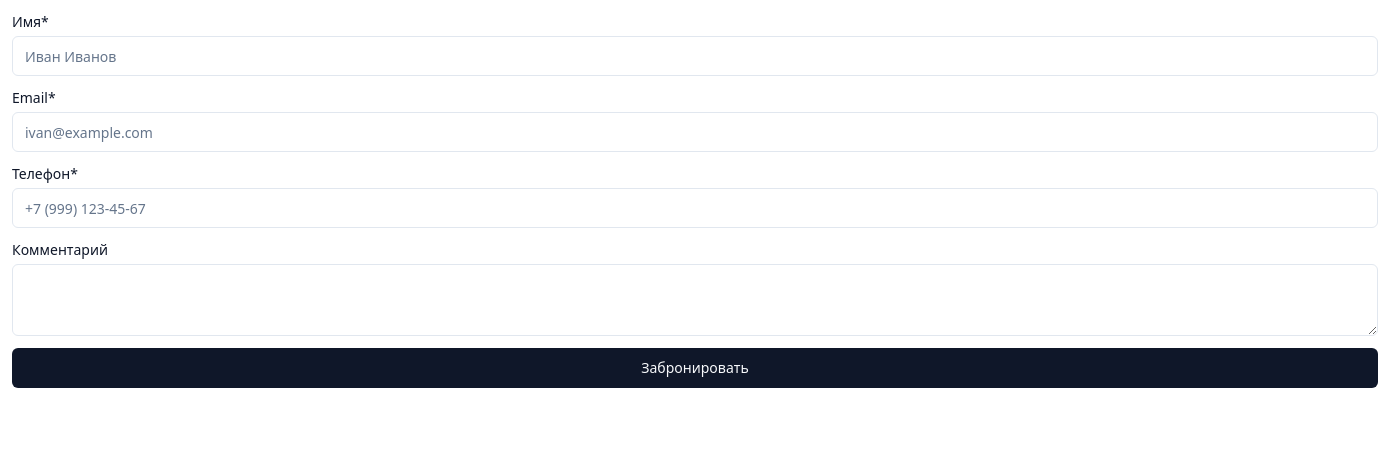
Test: GuestForm › validation › shows error for empty name
Click the button "Забронировать" at (695, 368), box [12,348,1378,388]
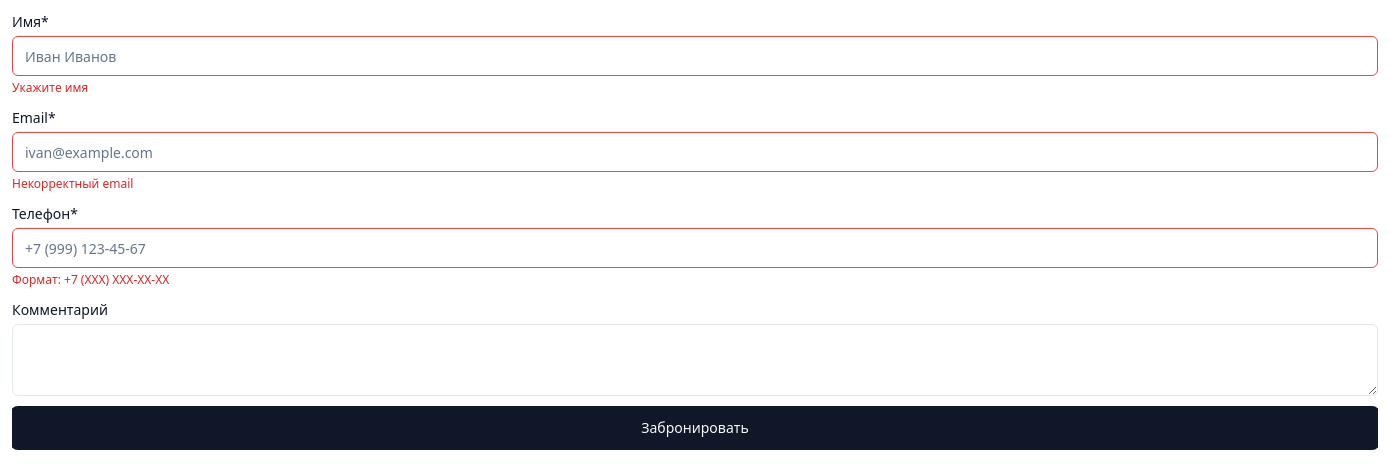
Expected: the text "Укажите имя" is shown, [12,79,88,96]
